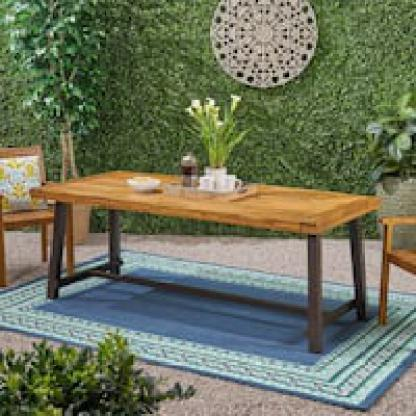table: (26, 162, 386, 357)
